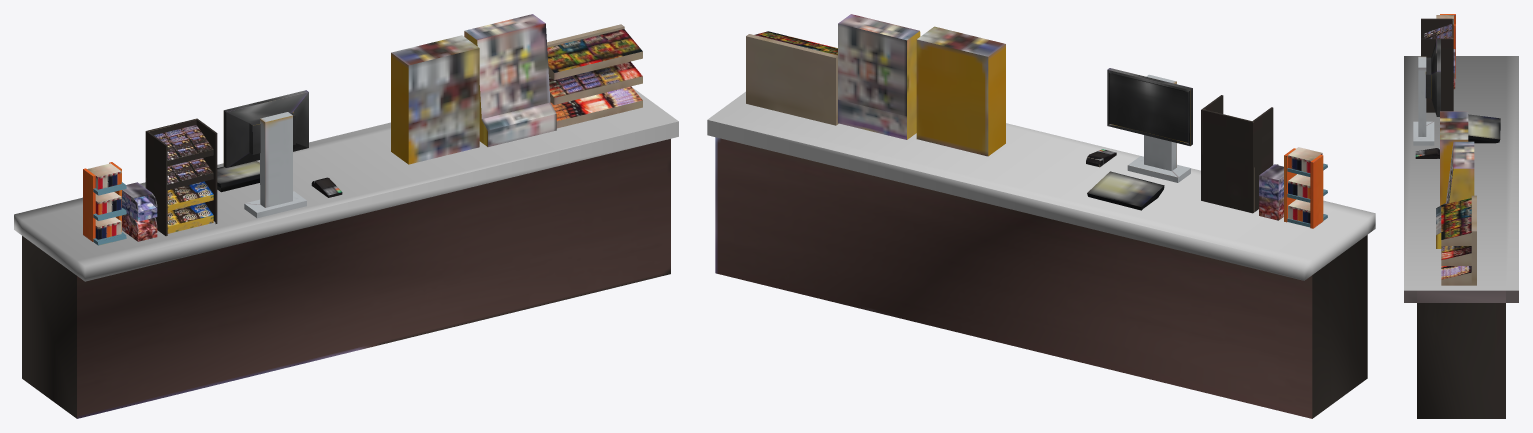
The model's file is cashregister.obj.
The picture shows the model from 3 angles, left to right: view 1: azimuth 30°, elevation 25°; view 2: azimuth 150°, elevation 25°; view 3: azimuth 270°, elevation 25°; orthographic projection. The views are drawn at different scales.
Parts seen in each view (by area): view 1: Management_004.001; view 2: Management_004.001; view 3: Management_004.001.
Part boxes in pixels (bbox=[...]): Management_004.001: bbox=[14, 14, 678, 418]; Management_004.001: bbox=[707, 14, 1375, 418]; Management_004.001: bbox=[1404, 14, 1518, 418].
Size of the model in its own units: 13.24 by 5.52 by 2.74.
